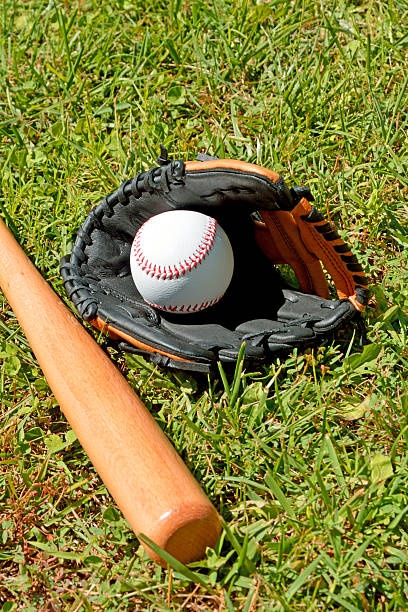bita: (1, 226, 219, 559), (106, 68, 152, 187)
